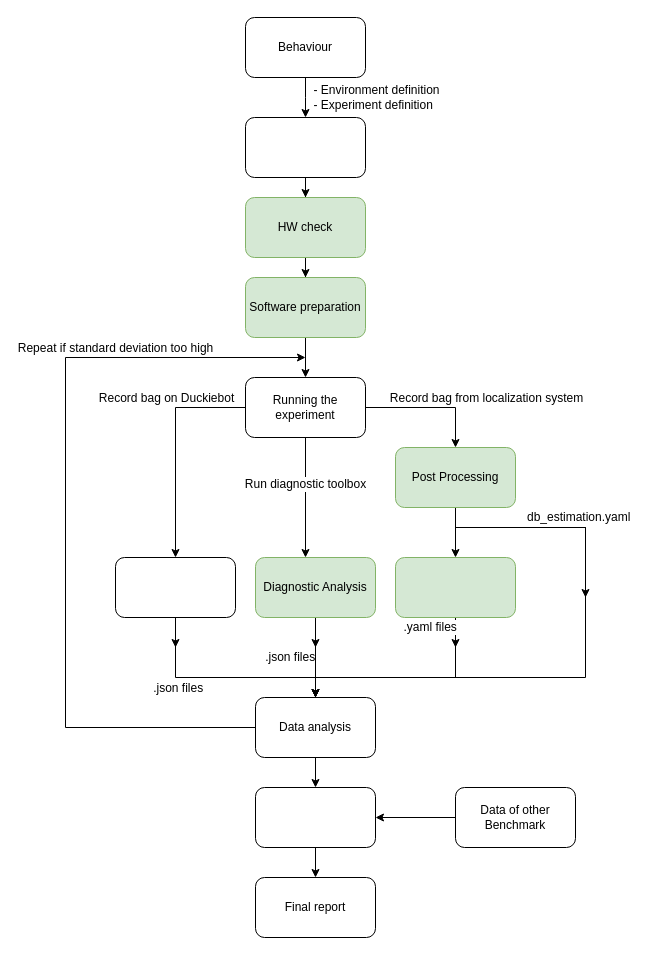
The diagram is 662 pixels wide and 955 high, and some of its shapes have lost their labels. The shapes that lost their labels are listed below. From the top down, each one's box as (x1, y1, x2, y2) in pixels, then its label:
(244, 116, 366, 178): HW setup
(114, 556, 236, 618): Rosbag Analysis
(394, 556, 516, 618): Graph Optimizer
(254, 786, 376, 848): Result computation and comparison
